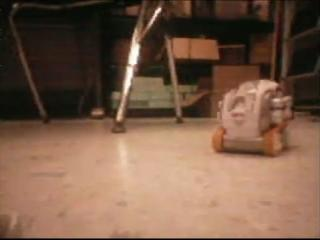cozmo: (210, 78, 294, 157)
